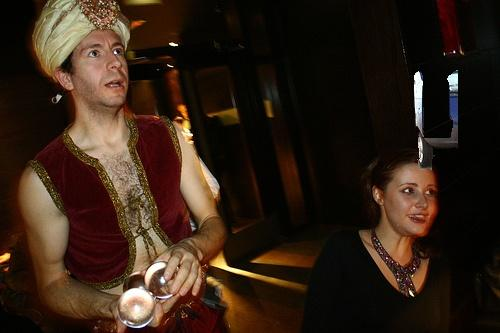tampered: (415, 71, 458, 170)
